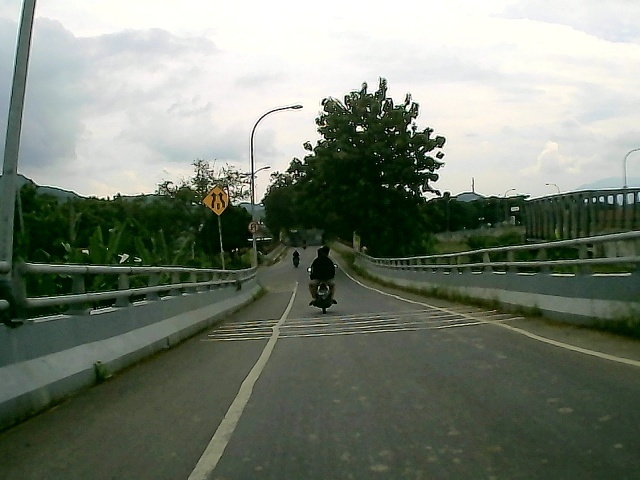Akhir bangunan pemisah satu arah: (199, 184, 234, 217)
Dilarang berbalik arah: (247, 221, 259, 235)
